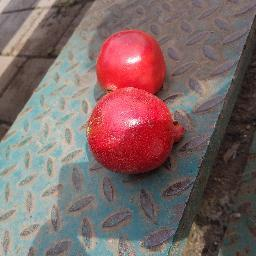Good_pomegranate: (86, 88, 188, 174), (94, 29, 168, 92)
